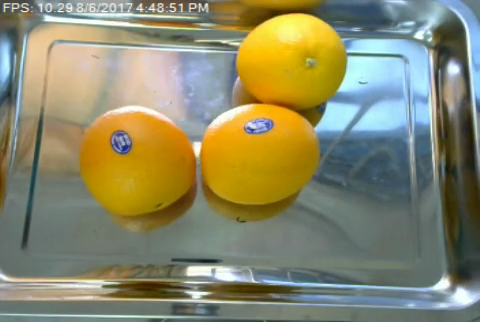Orange: (78, 105, 196, 216), (201, 103, 321, 206), (237, 11, 349, 113)
